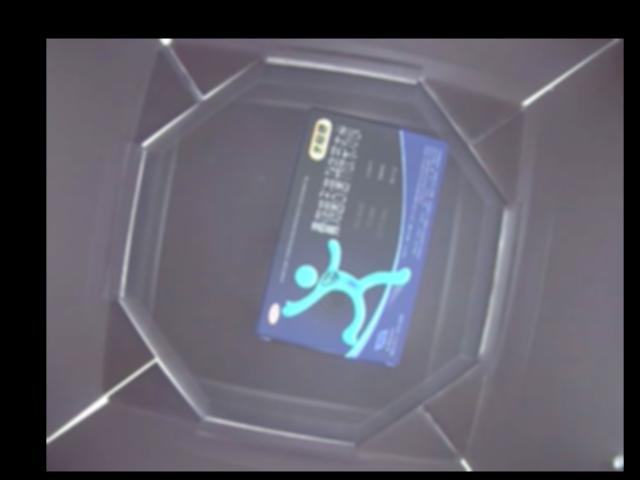Medicine: (260, 106, 451, 365)
